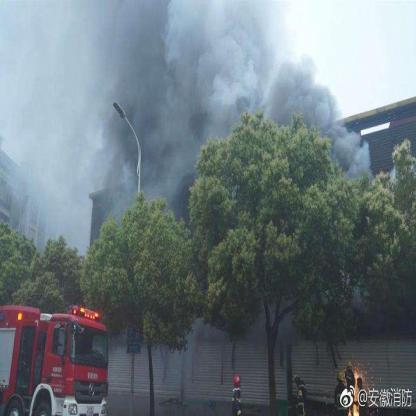smoke: (168, 0, 276, 115), (85, 3, 166, 121), (136, 121, 196, 209), (276, 60, 330, 121), (328, 126, 368, 179)
